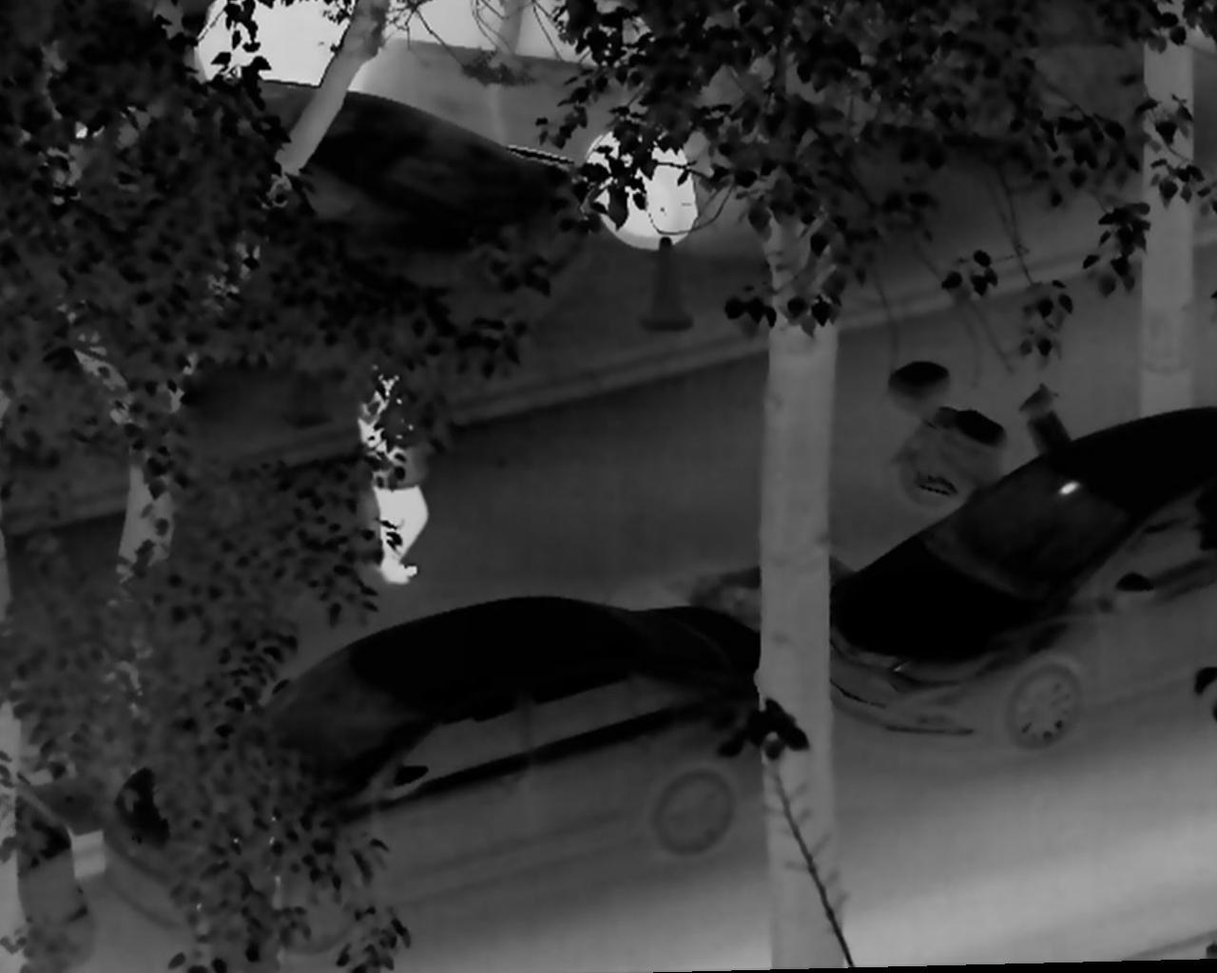person: (353, 361, 430, 586)
